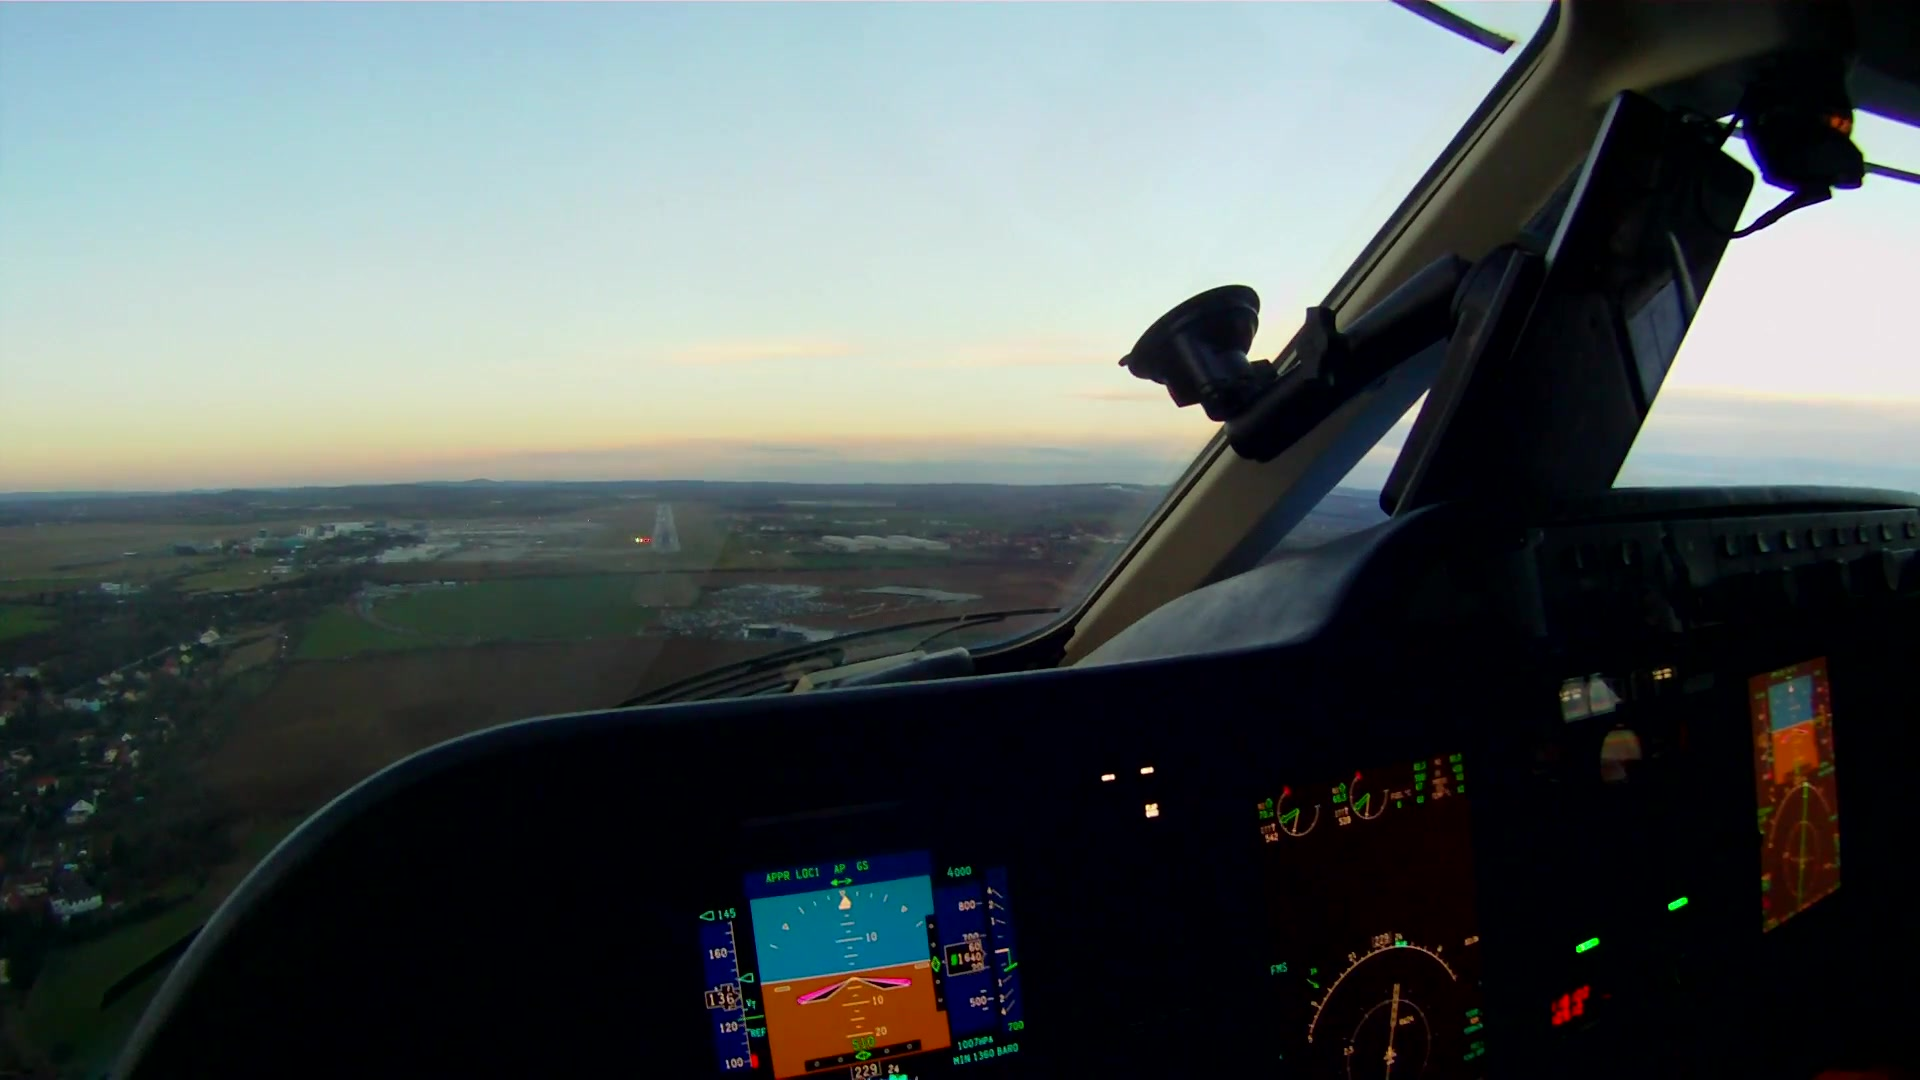runway: (645, 501, 687, 554)
